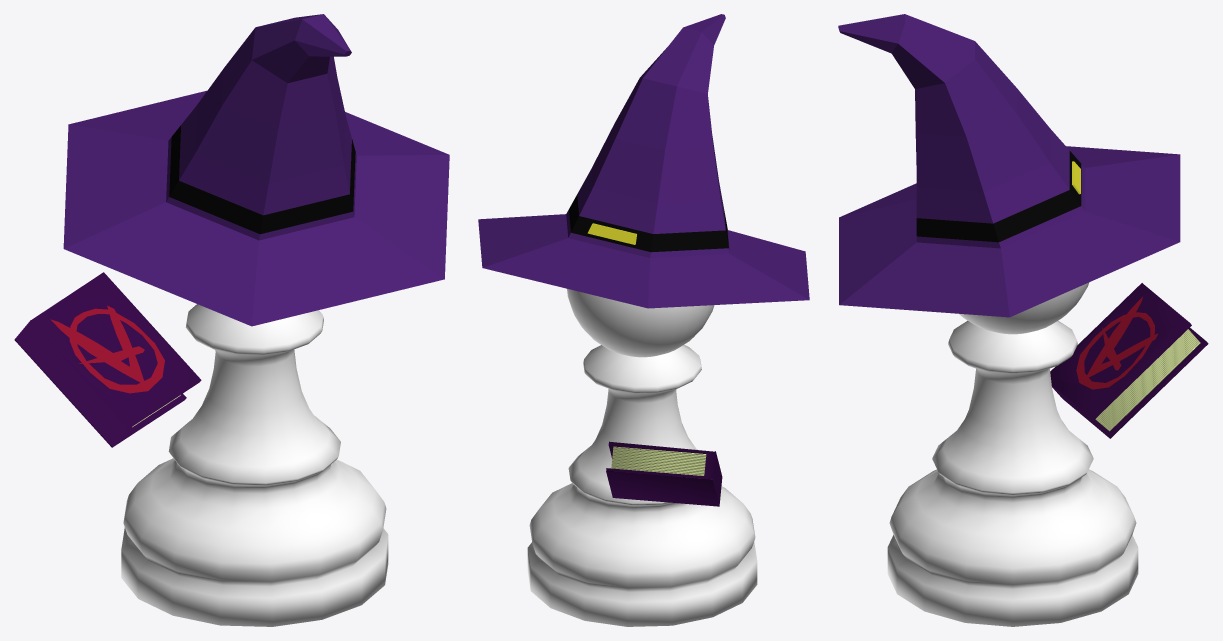
Rendered from pion_mage.glb.
3 renders of one model, left to right at view 1: azimuth 30°, elevation 25°; view 2: azimuth 150°, elevation 25°; view 3: azimuth 270°, elevation 25°, orthographic. The views are drawn at different scales.
Parts seen in each view (by area): view 1: Cylindre, pawn_black, Cube; view 2: pawn_black, Cylindre, Cube; view 3: Cylindre, pawn_black, Cube.
Boxes of the visible parts, x1=… form: Cylindre: x1=63, y1=14, x2=449, y2=326; pawn_black: x1=121, y1=304, x2=388, y2=626; Cube: x1=14, y1=272, x2=201, y2=447; pawn_black: x1=527, y1=289, x2=757, y2=626; Cylindre: x1=478, y1=14, x2=809, y2=308; Cube: x1=606, y1=441, x2=722, y2=506; Cylindre: x1=838, y1=14, x2=1180, y2=317; pawn_black: x1=887, y1=282, x2=1138, y2=626; Cube: x1=1050, y1=283, x2=1208, y2=438.
Bounding box in the file's own units: 1.32 × 1.95 × 1.18.
